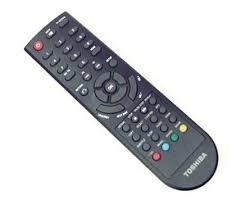remote control: (17, 10, 221, 195)
